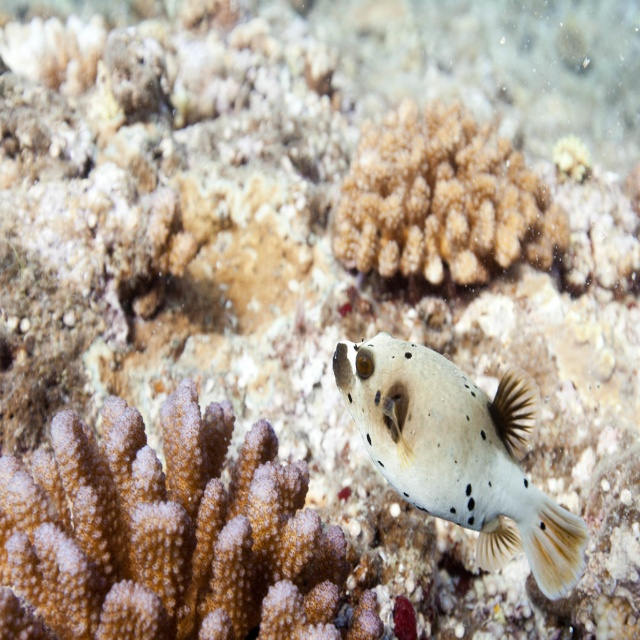Fish: (337, 316, 600, 611)
